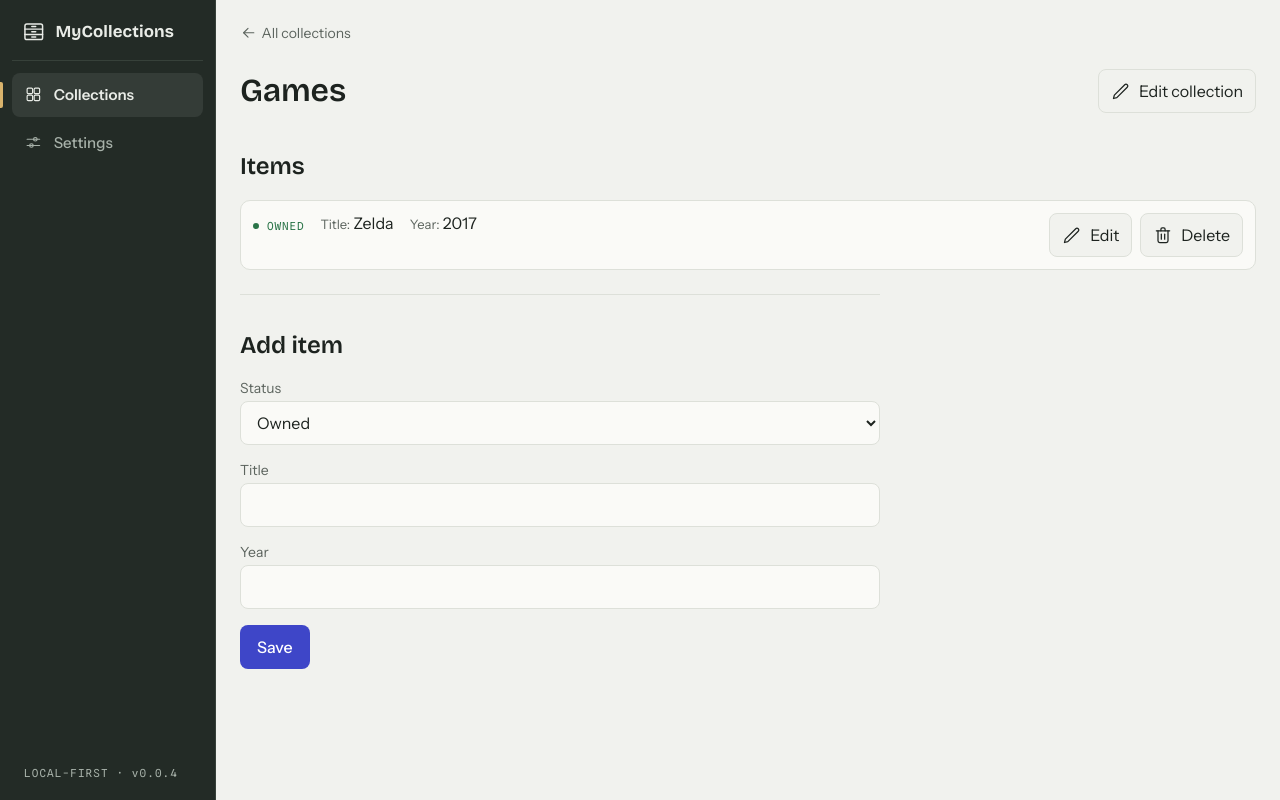
Scenario: CollectionDetailPage › undo toast › fills a live region that was already in the document, rather than inserting one with its message inside (#308)
This screenshot has width=1280, height=800.
Expected: the text "Zelda" is shown, left=353, top=213, right=394, bottom=233
Click the button "Delete" at coordinates (1192, 235), box left=1140, top=213, right=1243, bottom=257
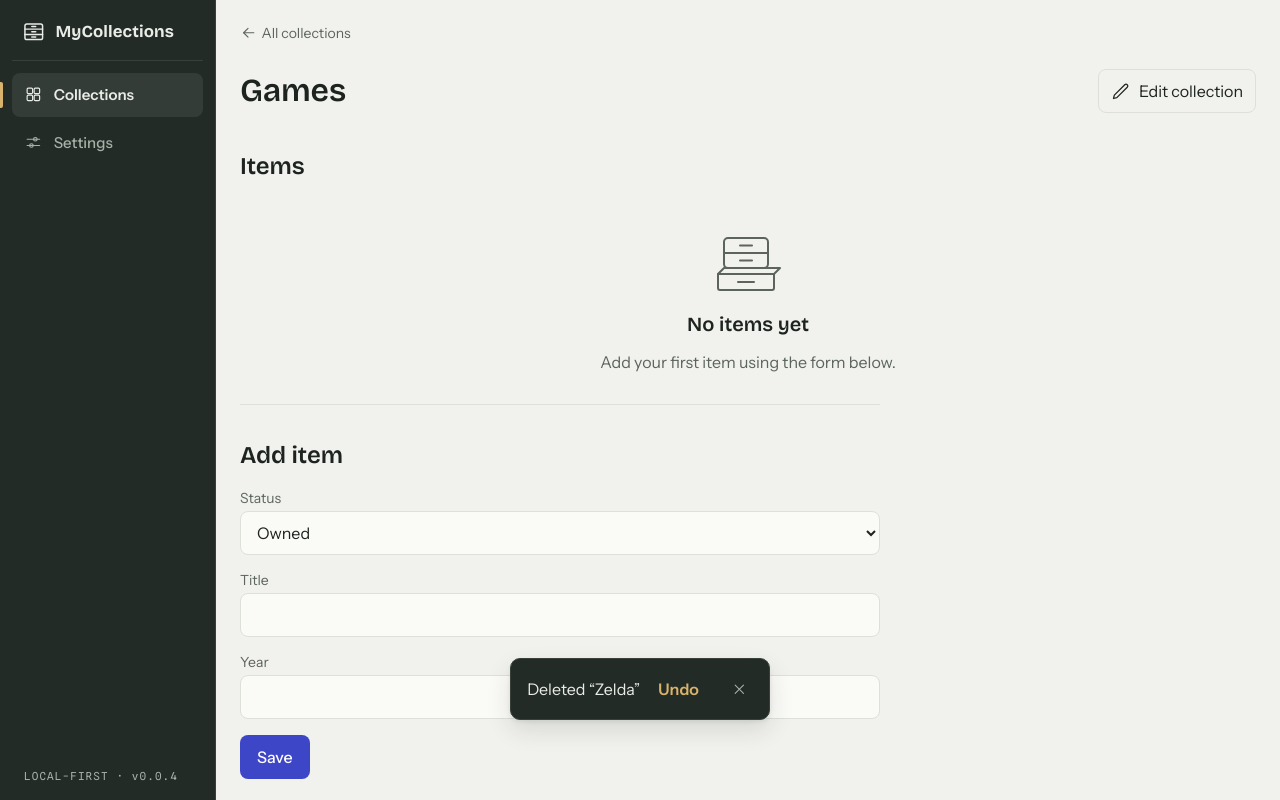
Now the element with class "undo-toast-live" shows "Deleted “Zelda”", box left=527, top=679, right=640, bottom=699
Now the number of elements with class "undo-toast-live" is 1, box left=510, top=658, right=770, bottom=720
